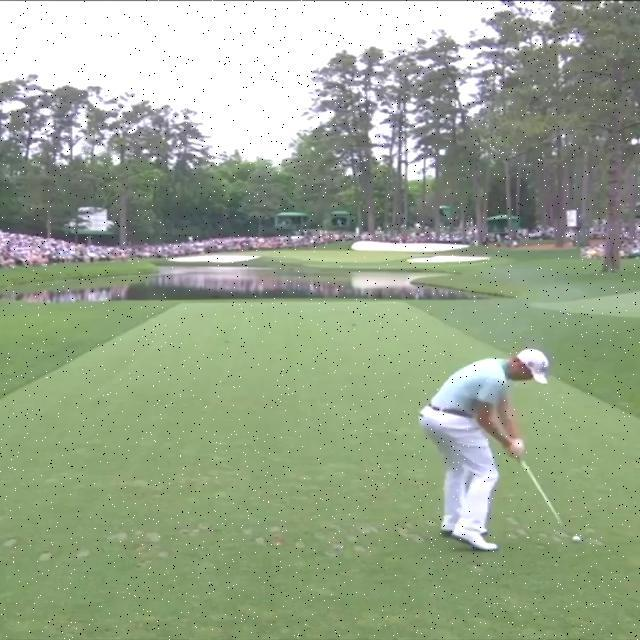golf ball: (573, 537, 581, 542)
golf club-handle: (511, 443, 586, 540)
golf club-head: (571, 534, 584, 540)
